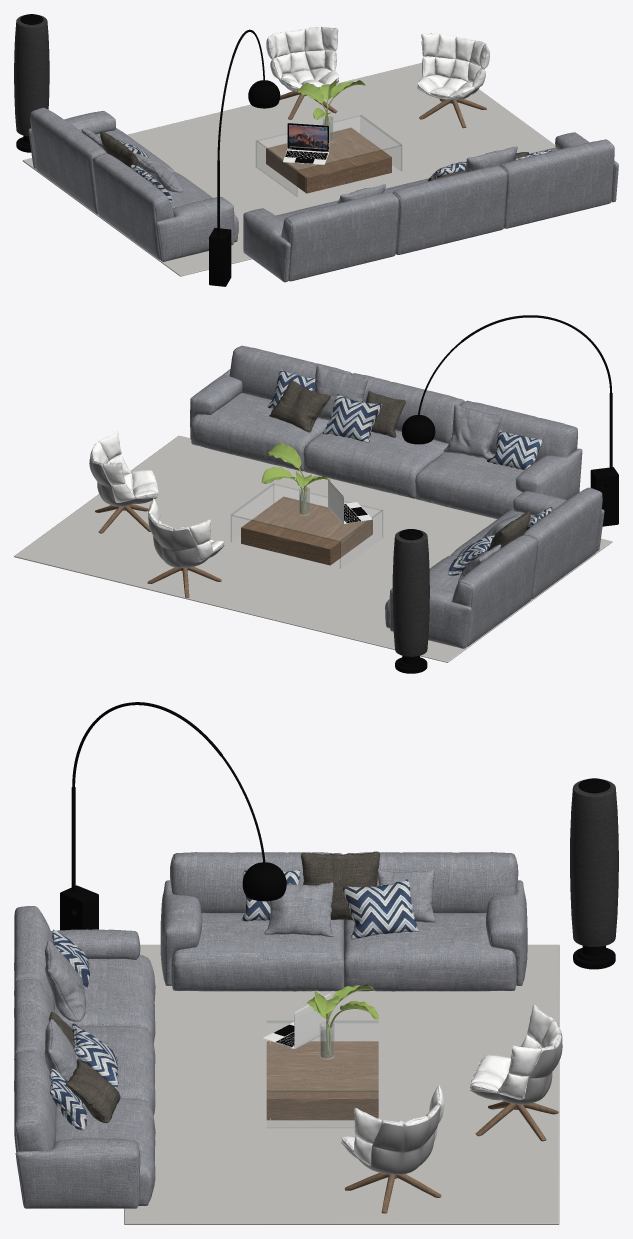
Rendered from apartamento-sala.glb.
The picture shows the model from 3 angles, top to bottom: view 1: azimuth 30°, elevation 25°; view 2: azimuth 150°, elevation 25°; view 3: azimuth 270°, elevation 25°; orthographic projection. The views are drawn at different scales.
Visible parts, largest first — view 1: CouchSet, StandSpeaker, MacBook; view 2: CouchSet, StandSpeaker, MacBook; view 3: CouchSet, StandSpeaker, MacBook.
Part boxes in pixels (x1,y1,x2,y2): CouchSet: [22, 26, 618, 286]; StandSpeaker: [14, 14, 49, 152]; MacBook: [283, 123, 329, 164]; CouchSet: [14, 315, 618, 662]; StandSpeaker: [392, 529, 429, 673]; MacBook: [328, 480, 372, 524]; CouchSet: [14, 702, 562, 1224]; StandSpeaker: [570, 778, 618, 969]; MacBook: [263, 993, 331, 1048].
Bounding box in the file's own units: 5.25 × 2.47 × 4.7.
19 materials, 9 textured.
